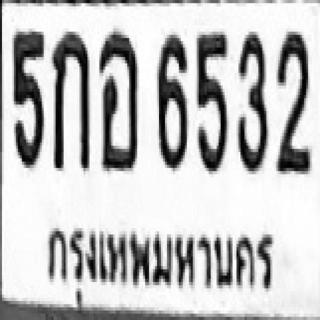A01: (51, 28, 88, 168)
A43: (97, 28, 137, 168)
N02: (275, 28, 309, 171)
N03: (236, 28, 267, 171)
N05: (195, 30, 227, 170), (12, 29, 42, 165)
N06: (154, 32, 186, 168)
P04: (36, 213, 278, 308)
